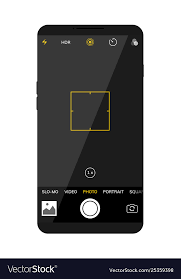camera: (80, 195, 100, 226)
